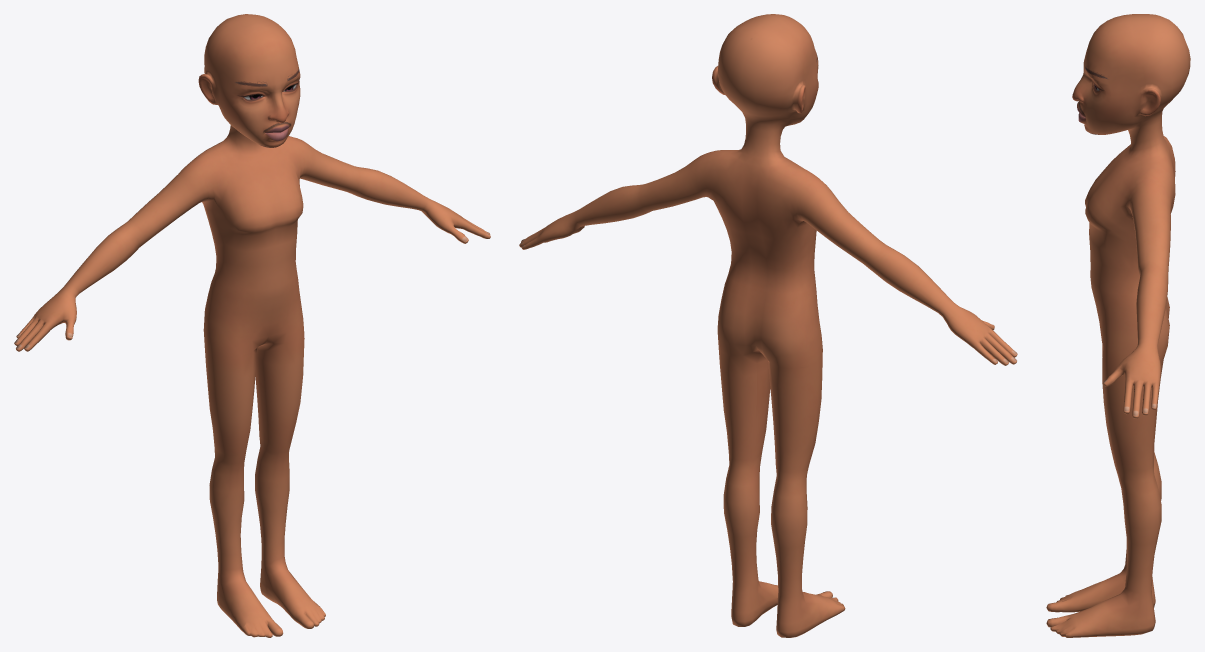
File: frame_0008.glb
The picture shows the model from 3 angles, left to right: view 1: azimuth 30°, elevation 25°; view 2: azimuth 150°, elevation 25°; view 3: azimuth 270°, elevation 25°; orthographic projection. The views are drawn at different scales.
Visible parts, largest first — view 1: frame_0008_head_geo; view 2: frame_0008_head_geo; view 3: frame_0008_head_geo.
Boxes of the visible parts, x1,y1,x2,y2 form: frame_0008_head_geo: (14,14,490,637); frame_0008_head_geo: (519,14,1017,637); frame_0008_head_geo: (1046,14,1190,637).
Size of the model in its own units: 1.28 by 1.5 by 0.3253.
3 materials, 3 textured.
